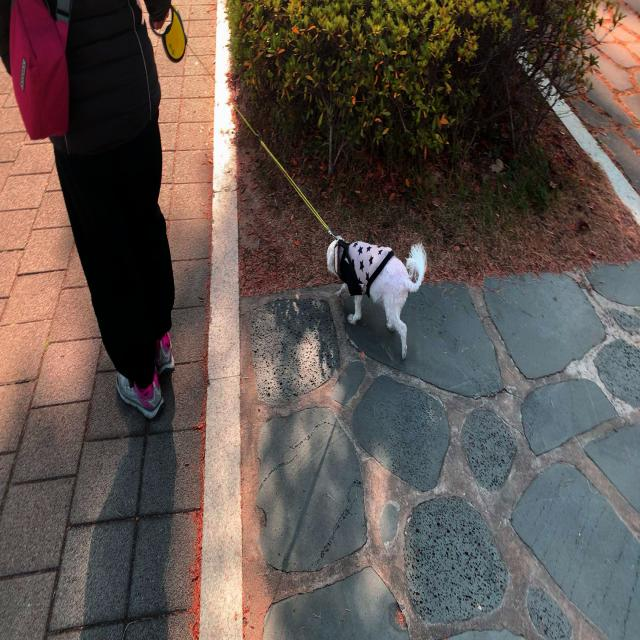Leashed_Dog: (119, 0, 428, 363)
